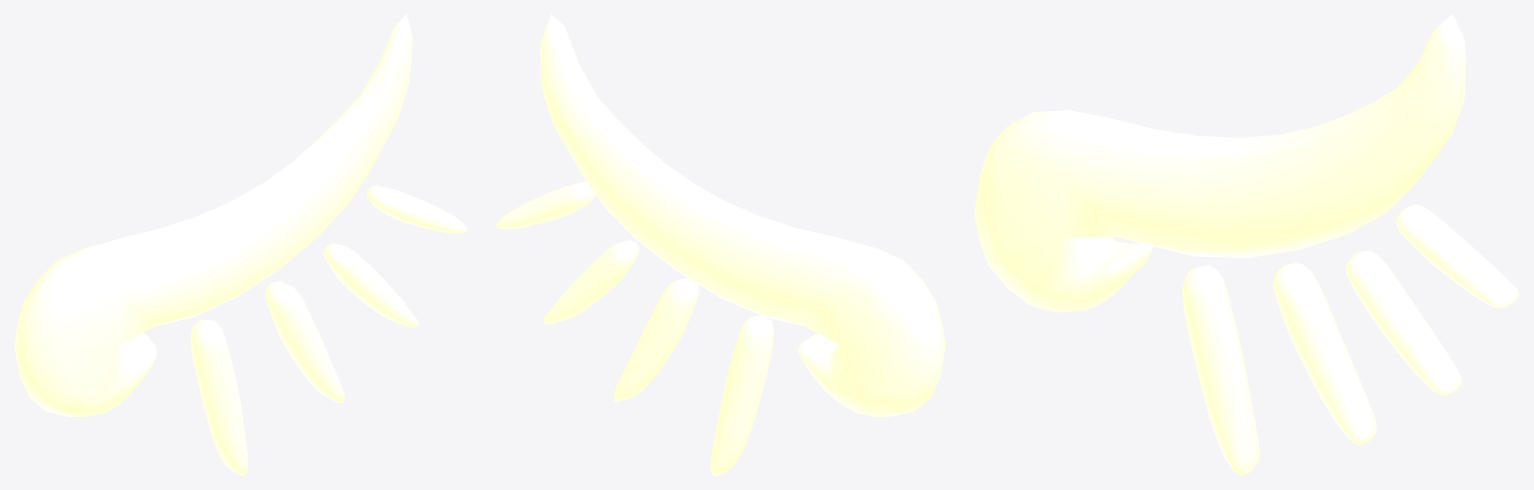
Rendered from Wings1Holy.fbx.
3 views of the same model, side by side, from view 1: azimuth 30°, elevation 25°; view 2: azimuth 150°, elevation 25°; view 3: azimuth 330°, elevation 25° (orthographic). The views are drawn at different scales.
Visible parts, largest first — view 1: Plane; view 2: Plane; view 3: Plane.
Boxes of the visible parts, x1=… form: Plane: x1=14, y1=14, x2=467, y2=475; Plane: x1=496, y1=14, x2=945, y2=475; Plane: x1=974, y1=14, x2=1519, y2=475.
Bounding box in the file's own units: 1.28 × 1.15 × 0.1681.
